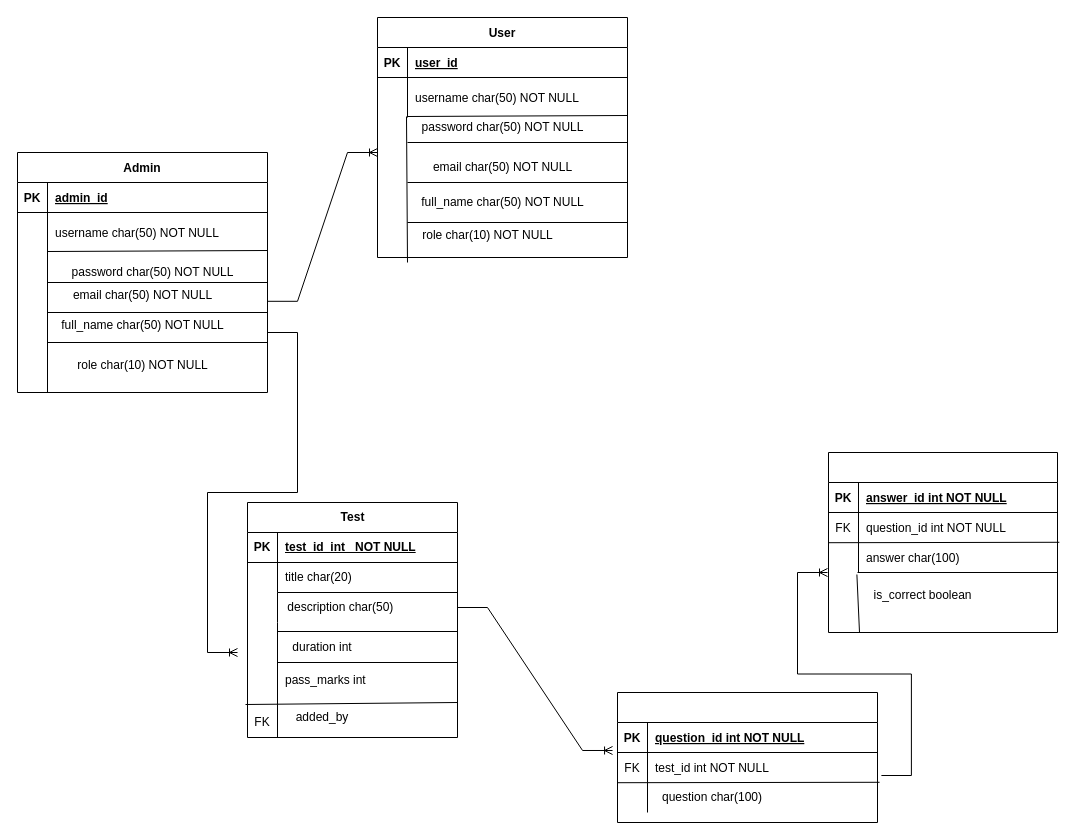
The diagram is 1078 pixels wide and 840 high, and some of its shapes have lost their labels. The shapes that lost their labels are listed below. From the top down, each one's box as (x1, y1, x2, y2) in pixels, then its label:
(828, 452, 1058, 632): Answers
(616, 692, 878, 822): Questions
